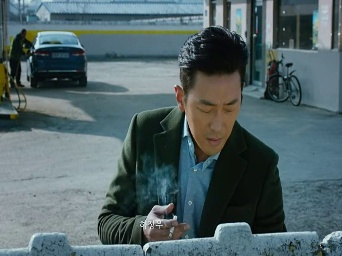smoke: (166, 215, 178, 239)
